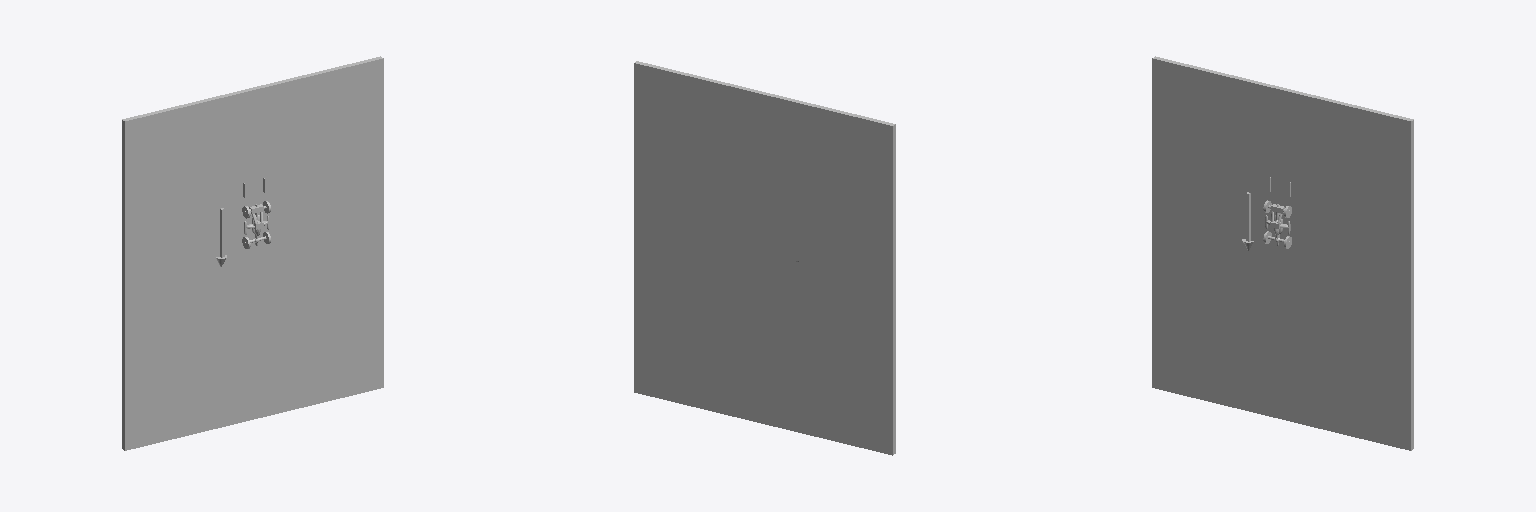
File: car_v2_for_aos4.obj
The picture shows the model from 3 angles: view 1: azimuth 30°, elevation 25°; view 2: azimuth 150°, elevation 25°; view 3: azimuth 330°, elevation 25°; orthographic projection.
Parts seen in each view (by area): view 1: obj_0; view 2: obj_0; view 3: obj_0.
Part boxes in pixels (x1,y1,x2,y2): obj_0: (122,56,383,450); obj_0: (634,61,895,455); obj_0: (1152,56,1413,450).
Size of the model in its own units: 476 by 579 by 30.8.